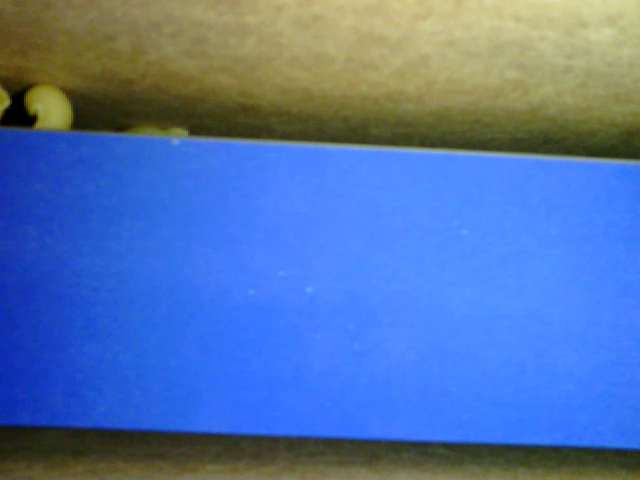shell: (25, 83, 75, 134)
